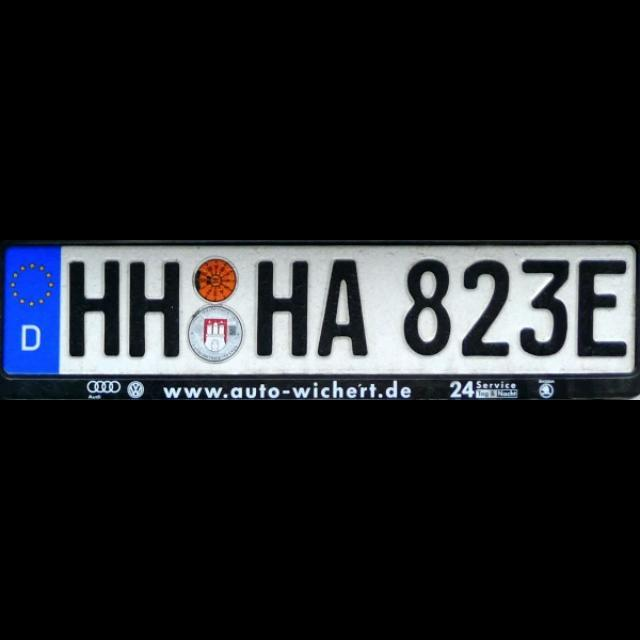license-plates: (0, 243, 638, 400)
